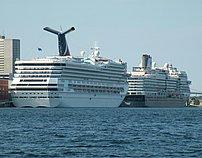Ship: (8, 23, 133, 112), (125, 51, 197, 114)
